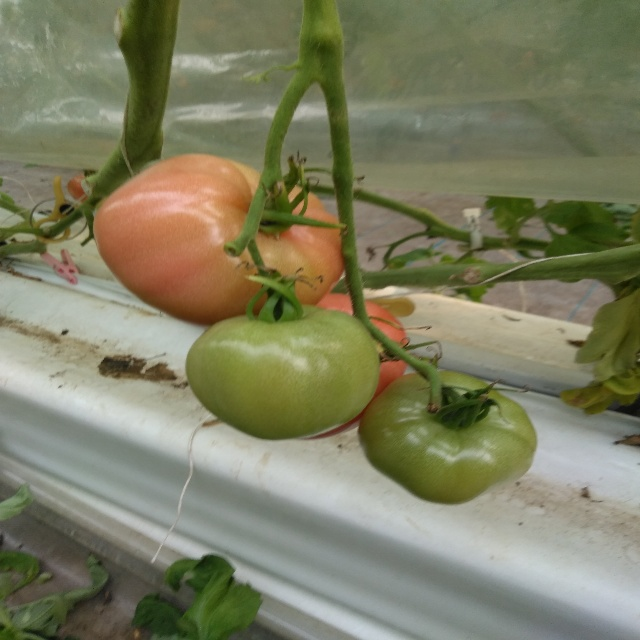b_fully_ripened: (299, 293, 410, 440)
b_green: (184, 305, 381, 441), (358, 370, 538, 506)
b_half_ripened: (92, 153, 355, 327)
